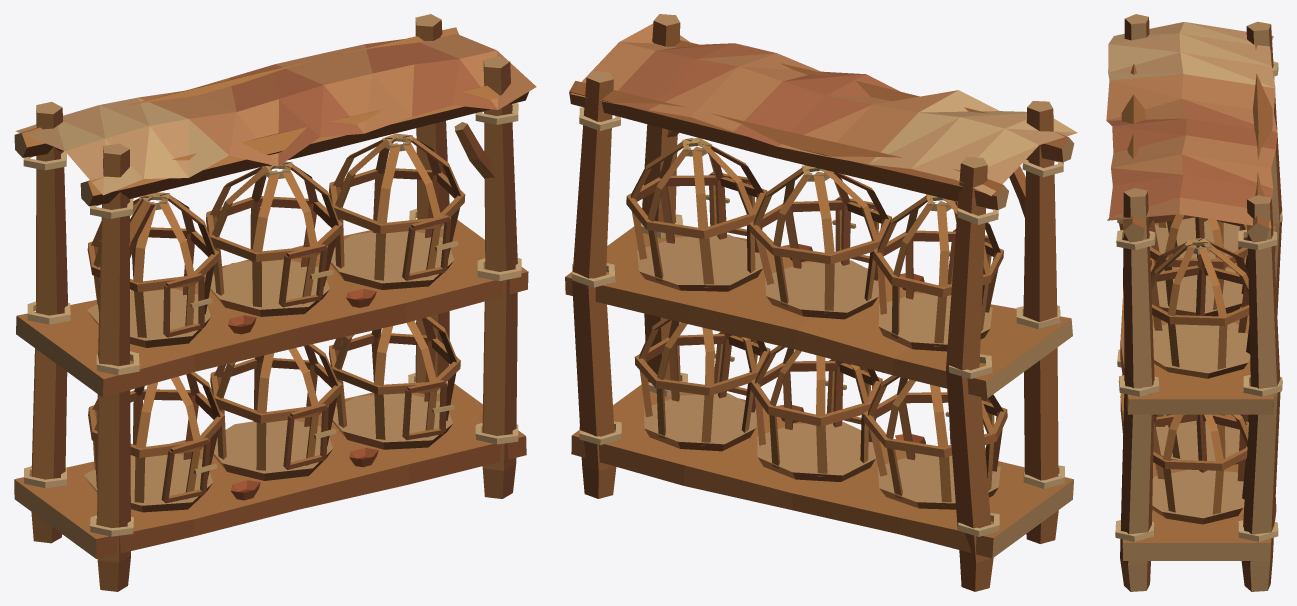
File: Prehistoric_Six_Cage_Rack.glb
The picture shows the model from 3 angles, left to right: view 1: azimuth 30°, elevation 25°; view 2: azimuth 150°, elevation 25°; view 3: azimuth 270°, elevation 25°; orthographic projection. The views are drawn at different scales.
Visible parts, largest first — view 1: Prehistoric_Six_Cage_Rack; view 2: Prehistoric_Six_Cage_Rack; view 3: Prehistoric_Six_Cage_Rack.
Part boxes in pixels (x1,y1,x2,y2): Prehistoric_Six_Cage_Rack: (14,14,536,591); Prehistoric_Six_Cage_Rack: (565,14,1077,591); Prehistoric_Six_Cage_Rack: (1106,14,1282,591).
Bounding box in the file's own units: 4.1 × 3.92 × 1.57.
